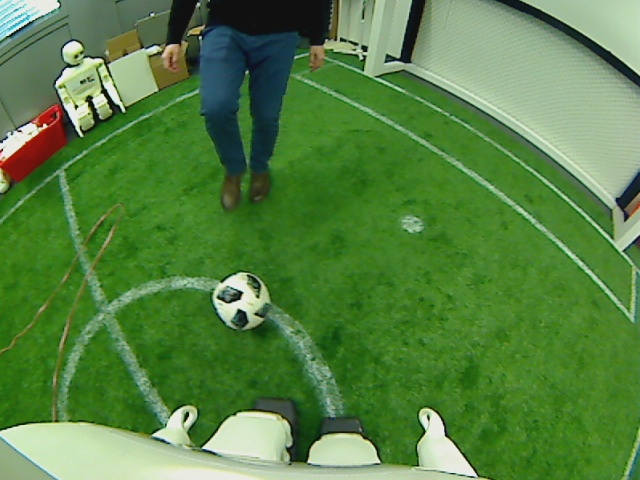ball: (210, 271, 272, 333)
